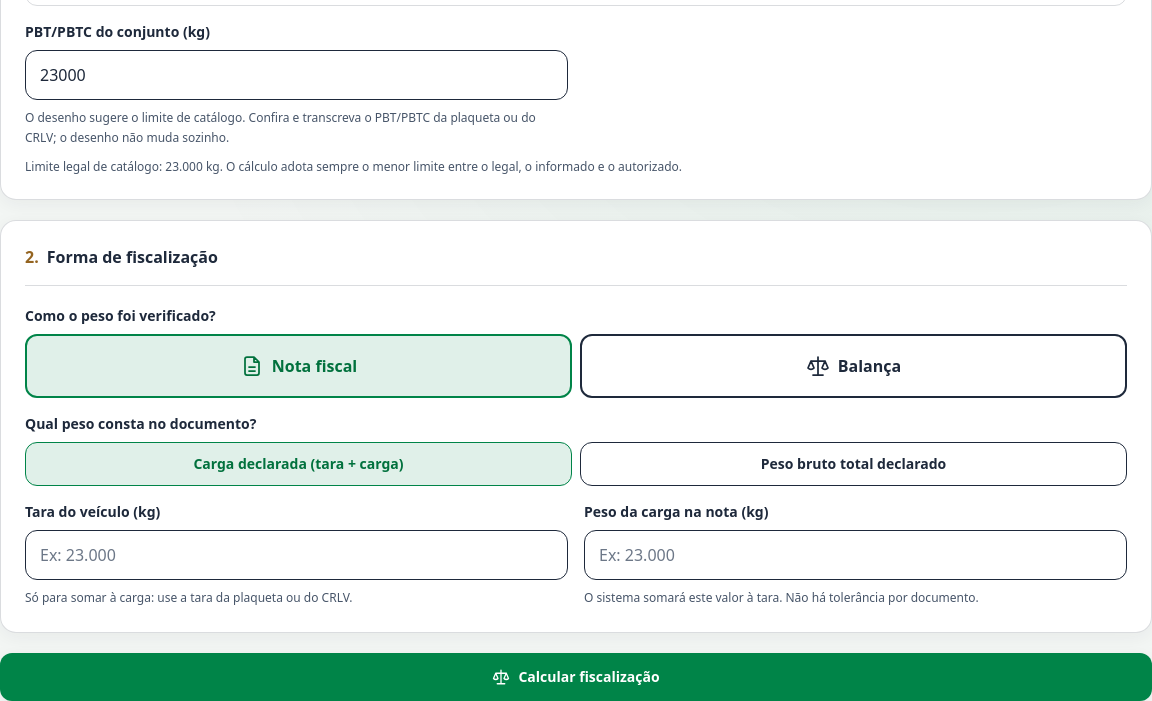
it: Página de pesos e dimensões › converte entrada brasileira, calcula por nota e mostra resultado completo
(page scrolled)
Expected: the field labelled "PBT/PBTC do conjunto (kg)" holds "23000", [25,50,568,100]
Type "9.000" into the field labelled "Tara do veículo (kg)" at (296, 555), box [25,530,568,580]
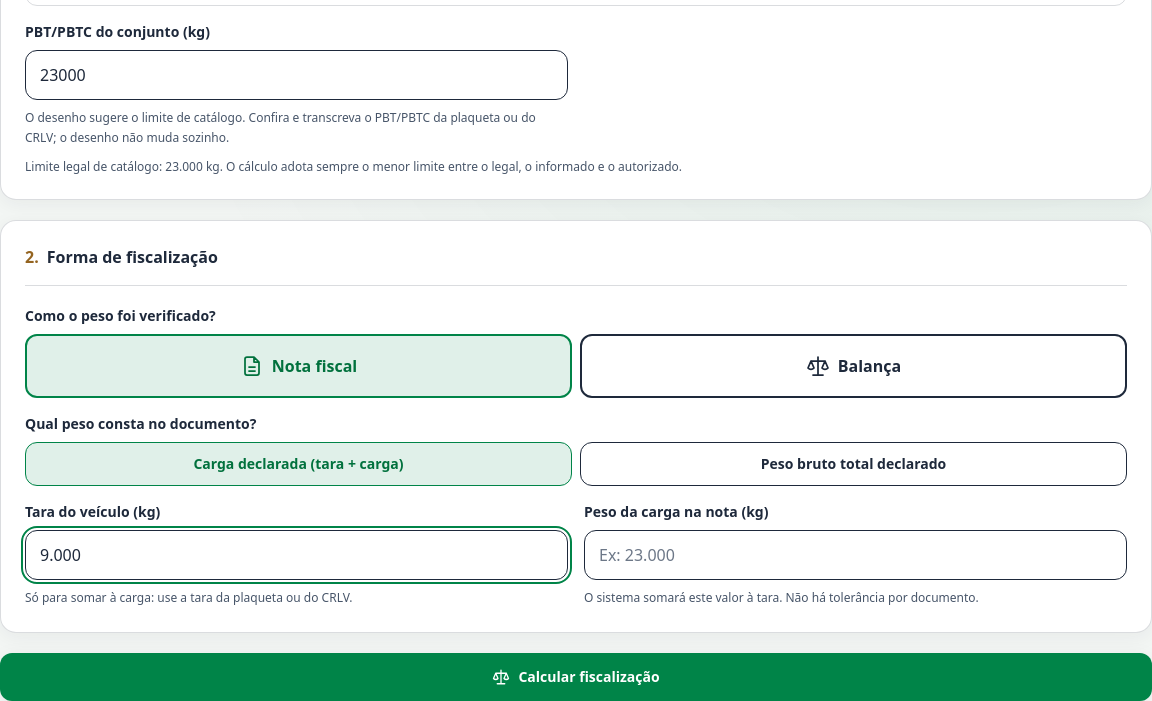
Type "14.001" into the field labelled "Peso da carga na nota (kg)" at (856, 555), box [584,530,1127,580]
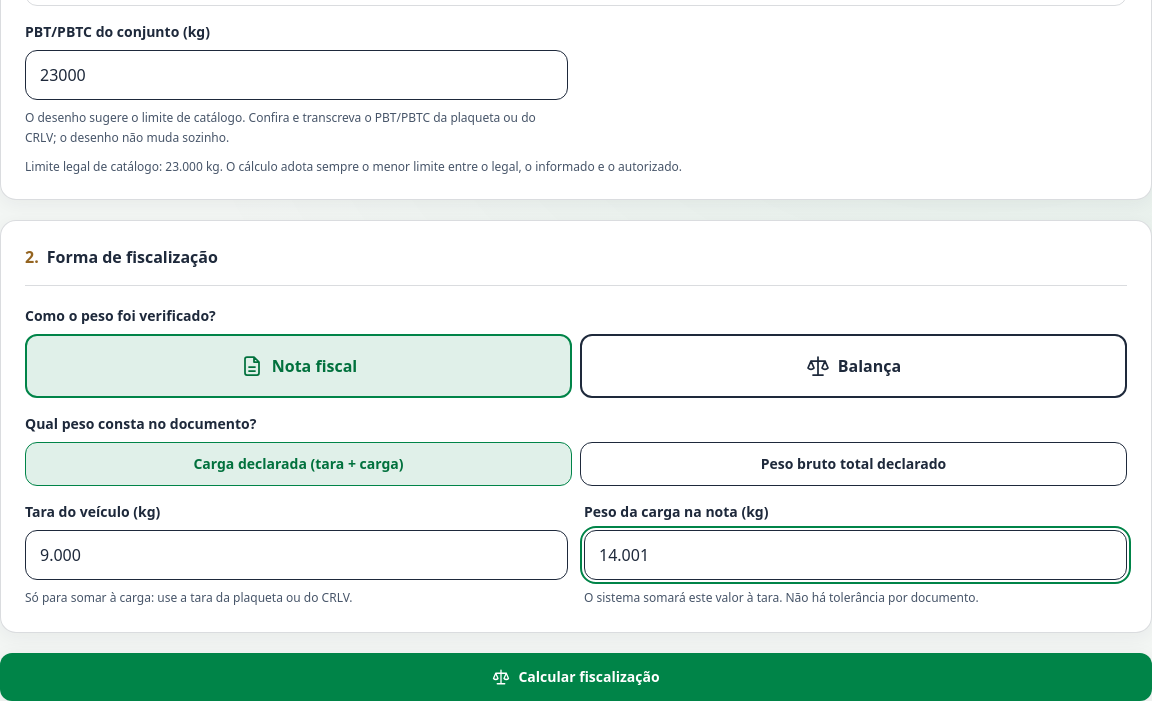
Click the button "Calcular fiscalização" at (576, 676), box [0,652,1151,700]
(page scrolled)
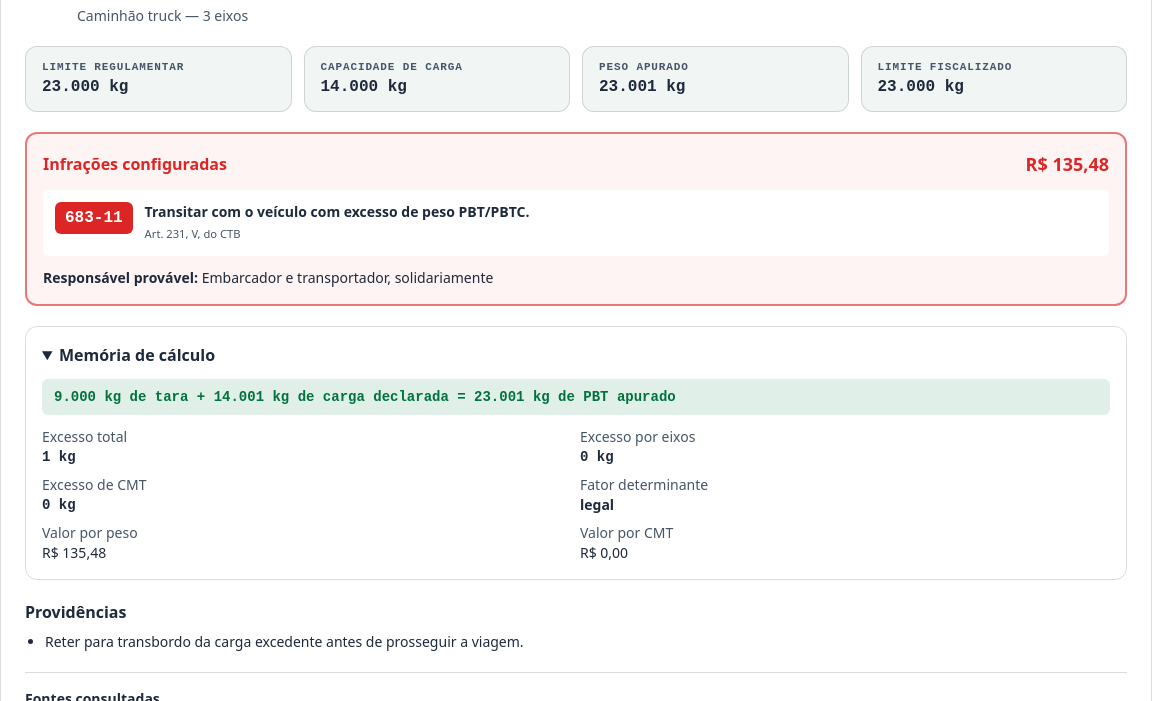
Result: the text "683-11" is shown at [55,202,133,234]
Result: the text "Transitar com o veículo com excesso de peso PBT/PBTC." is shown at [145,202,530,222]
Result: the text "Art. 231, V, do CTB" is shown at [145,226,241,241]
